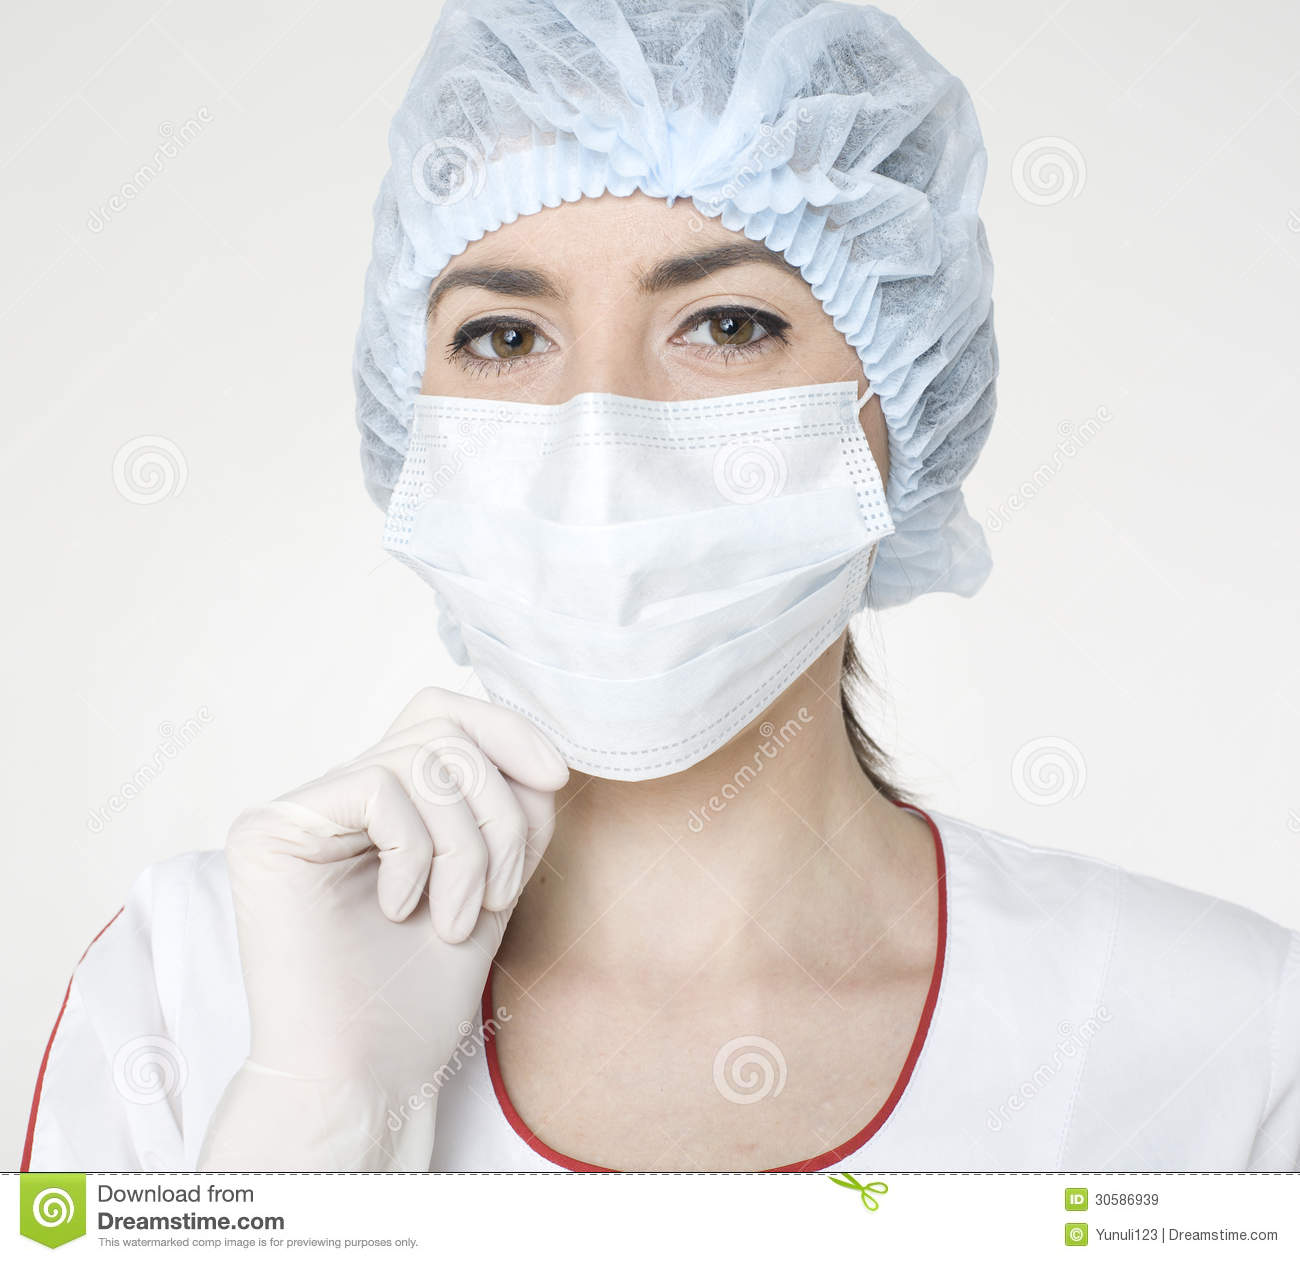mask: (391, 388, 894, 780)
